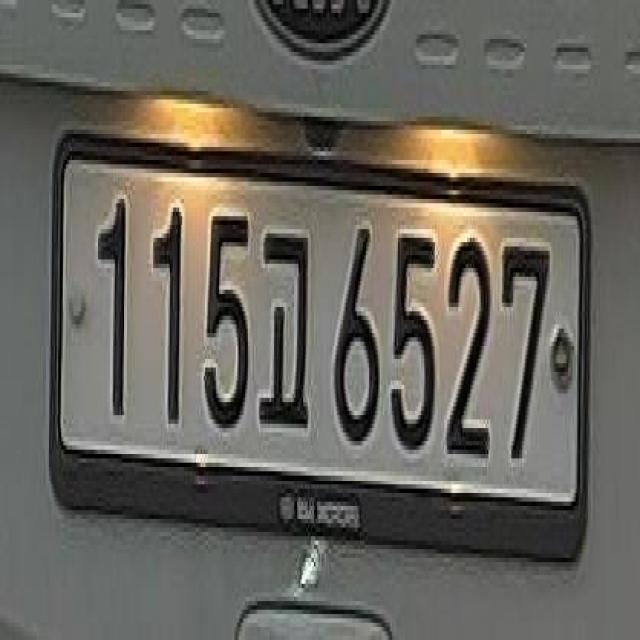illegal_plate: (40, 140, 602, 579)
